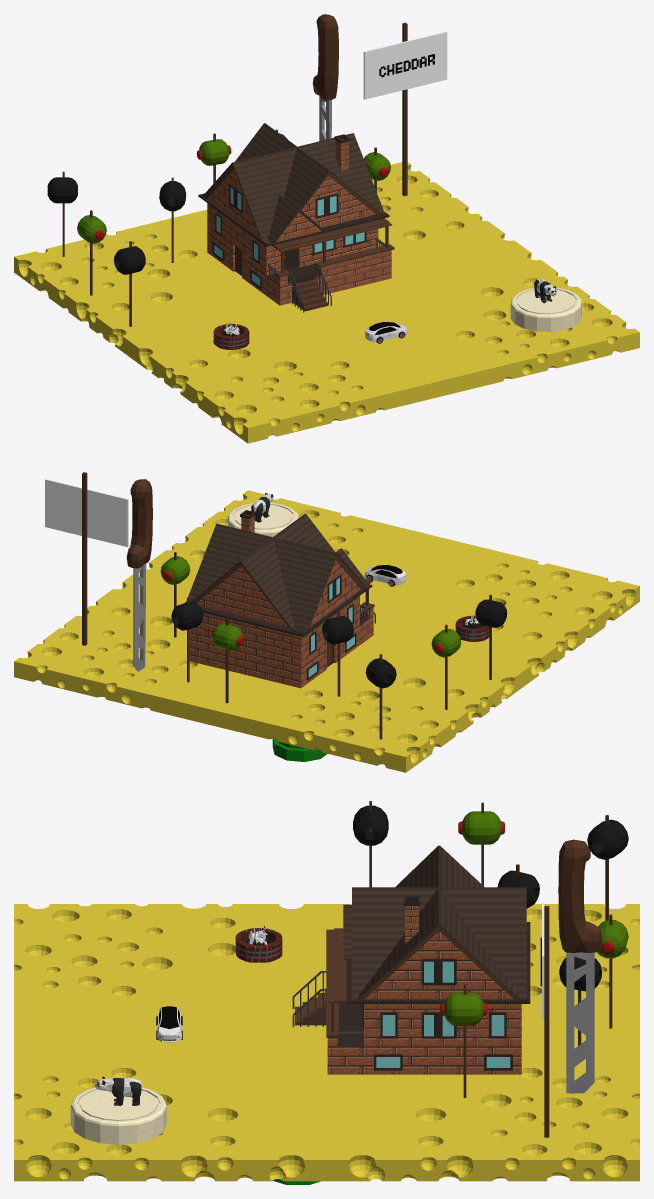
3 views of the same model, one above another, from view 1: azimuth 30°, elevation 25°; view 2: azimuth 150°, elevation 25°; view 3: azimuth 270°, elevation 25° (orthographic). The views are drawn at different scales.
Visible parts, largest first — view 1: Cube.022, Cube.469, Cube.023, Cylinder.016, Cube.024, Sphere.017, Sphere.016, OBJRANDOM_CAMPFIRE, Sphere.020, Sphere.018, Sphere.022, VEHICLES_TESLA (+1 smaller); view 2: Cube.022, Cube.469, Cube.023, Cube.024, Cylinder.016, Sphere.020, Sphere.016, Sphere.022, Sphere.017, Sphere.021, Sphere.018, Sphere.019 (+3 smaller); view 3: Cube.022, Cube.469, Cube.024, Cylinder.016, Cube.023, Sphere.019, Sphere.016, OBJRANDOM_CAMPFIRE, Sphere.018, Sphere.017, Sphere.022, ANIMAL_PANDA (+3 smaller).
Part boxes in pixels (x1=…): Cube.022: x1=14, y1=162, x2=639, y2=443; Cube.469: x1=198, y1=123, x2=394, y2=312; Cube.023: x1=363, y1=22, x2=447, y2=196; Cylinder.016: x1=510, y1=287, x2=581, y2=331; Cube.024: x1=312, y1=14, x2=338, y2=141; Sphere.017: x1=114, y1=241, x2=145, y2=326; Sphere.016: x1=47, y1=171, x2=77, y2=256; OBJRANDOM_CAMPFIRE: x1=213, y1=322, x2=249, y2=349; Sphere.020: x1=159, y1=177, x2=186, y2=262; Sphere.018: x1=77, y1=210, x2=106, y2=295; Sphere.022: x1=196, y1=133, x2=231, y2=183; VEHICLES_TESLA: x1=365, y1=322, x2=407, y2=343; Cube.022: x1=14, y1=490, x2=639, y2=772; Cube.469: x1=185, y1=510, x2=375, y2=688; Cube.023: x1=45, y1=472, x2=128, y2=645; Cube.024: x1=126, y1=479, x2=152, y2=671; Cylinder.016: x1=227, y1=502, x2=298, y2=537; Sphere.020: x1=322, y1=611, x2=353, y2=696; Sphere.016: x1=365, y1=654, x2=396, y2=739; Sphere.022: x1=212, y1=618, x2=243, y2=703; Sphere.017: x1=475, y1=594, x2=507, y2=679; Sphere.021: x1=171, y1=597, x2=203, y2=682; Sphere.018: x1=431, y1=624, x2=461, y2=709; Sphere.019: x1=160, y1=552, x2=190, y2=637; Cube.022: x1=14, y1=904, x2=639, y2=1181; Cube.469: x1=292, y1=845, x2=530, y2=1074; Cube.024: x1=558, y1=839, x2=602, y2=1093; Cylinder.016: x1=70, y1=1087, x2=166, y2=1144; Cube.023: x1=540, y1=902, x2=549, y2=1137; Sphere.019: x1=440, y1=984, x2=487, y2=1097; Sphere.016: x1=587, y1=815, x2=628, y2=920; OBJRANDOM_CAMPFIRE: x1=235, y1=920, x2=282, y2=962; Sphere.018: x1=458, y1=802, x2=504, y2=885; Sphere.017: x1=353, y1=801, x2=388, y2=887; Sphere.022: x1=597, y1=914, x2=628, y2=1028; ANIMAL_PANDA: x1=95, y1=1076, x2=141, y2=1105.
Size of the model in its own units: 3917 by 2590 by 4000.
Materials: 30 (4 with a texture image).
